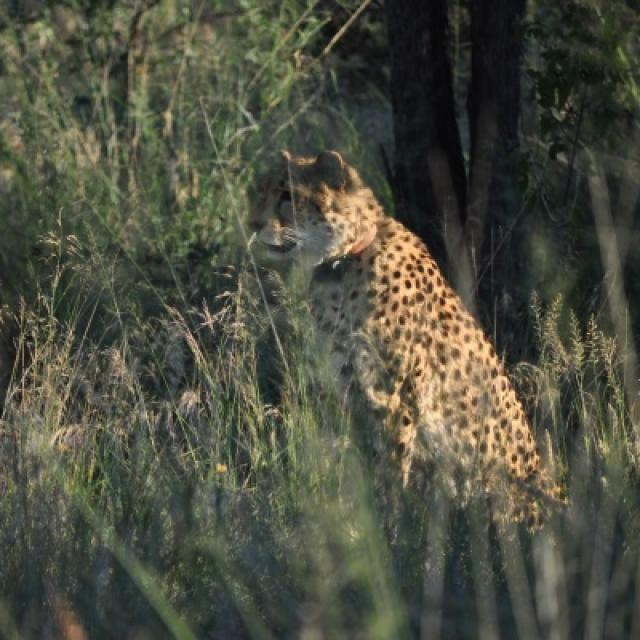Cheetah: (250, 152, 562, 533)
